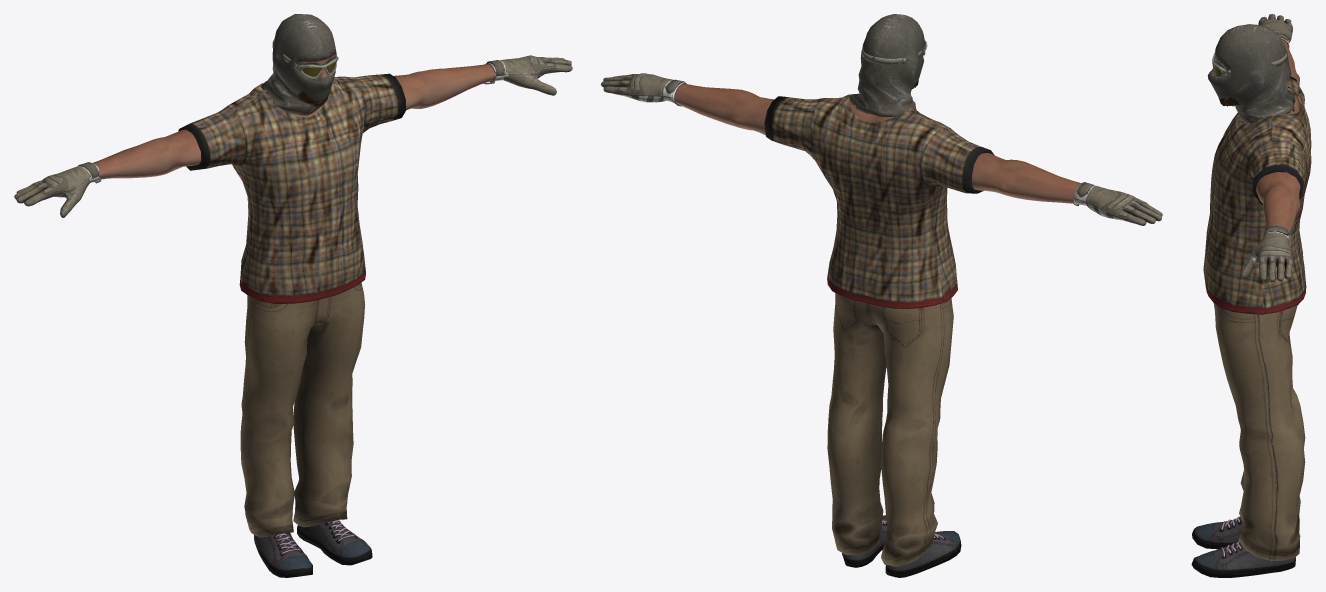
File: man_1_with_clothing_rigged_skeleton.glb
The picture shows the model from 3 angles, left to right: view 1: azimuth 30°, elevation 25°; view 2: azimuth 150°, elevation 25°; view 3: azimuth 270°, elevation 25°; orthographic projection.
Parts seen in each view (by area): view 1: Object_2; view 2: Object_2; view 3: Object_2.
Boxes of the visible parts, x1=… form: Object_2: x1=14, y1=14, x2=572, y2=577; Object_2: x1=601, y1=14, x2=1162, y2=577; Object_2: x1=1191, y1=14, x2=1311, y2=577.
Size of the model in its own units: 194 by 179 by 36.83.
1 material, 1 textured.
